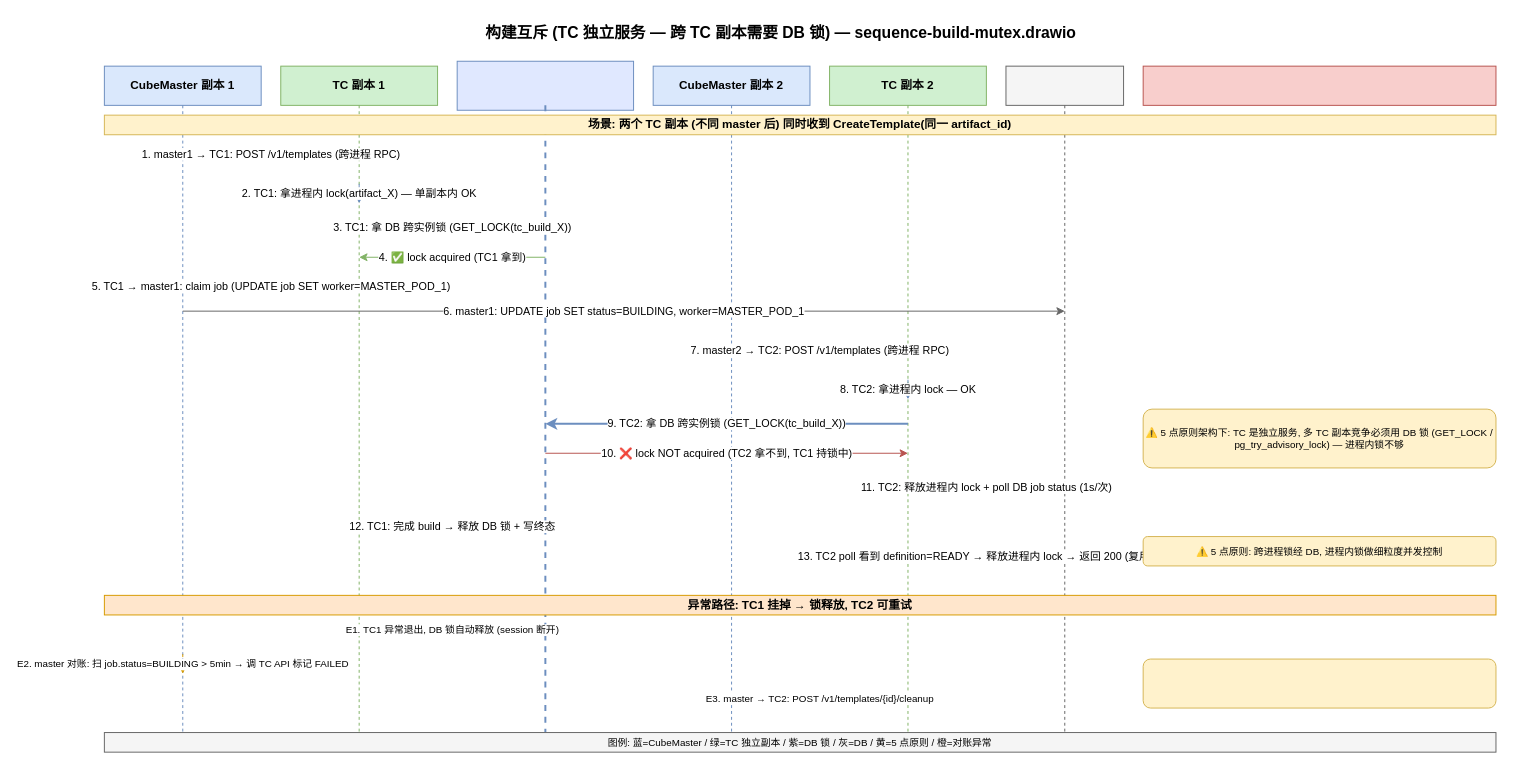
Some shapes in this 1532 by 769 pixel diagram are drawn without their labels. Each missing label, with the centre of its shape:
5 点原则: the point at 1319,85
5 点原则第 3 条: 对账由 master 发起, 经 API 调 TC 处理: the point at 1319,683
DB: the point at 1064,85
DB 互斥锁 (MySQL GET_LOCK / PG pg_try_advisory_lock): the point at 545,85
